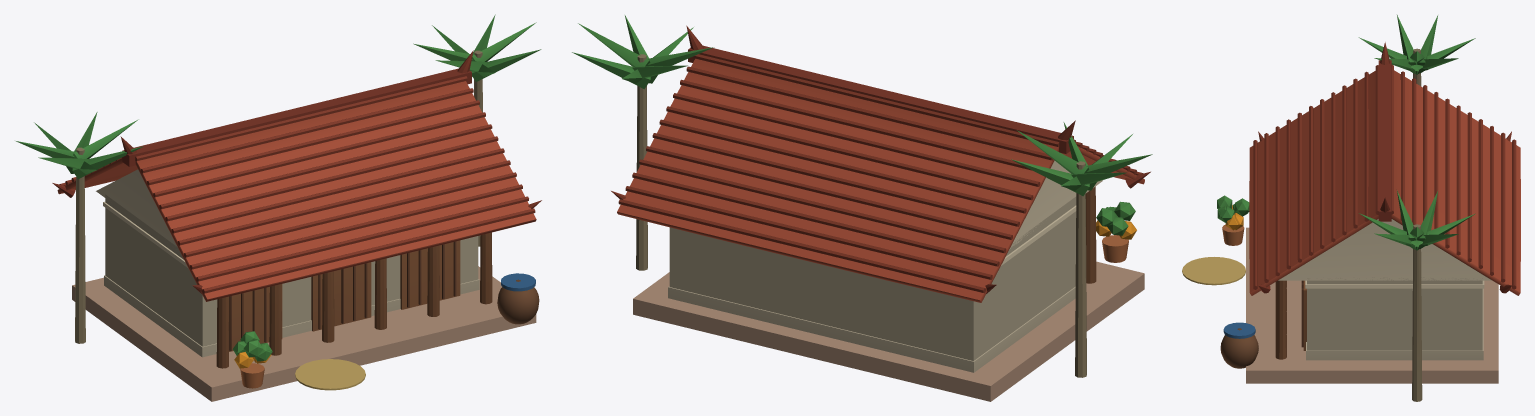
File: hs-10dqlkb.glb
3 views of the same model, side by side, from view 1: azimuth 30°, elevation 25°; view 2: azimuth 150°, elevation 25°; view 3: azimuth 270°, elevation 25° (orthographic). The views are drawn at different scales.
Size of the model in its own units: 16.71 by 6.65 by 10.59.
